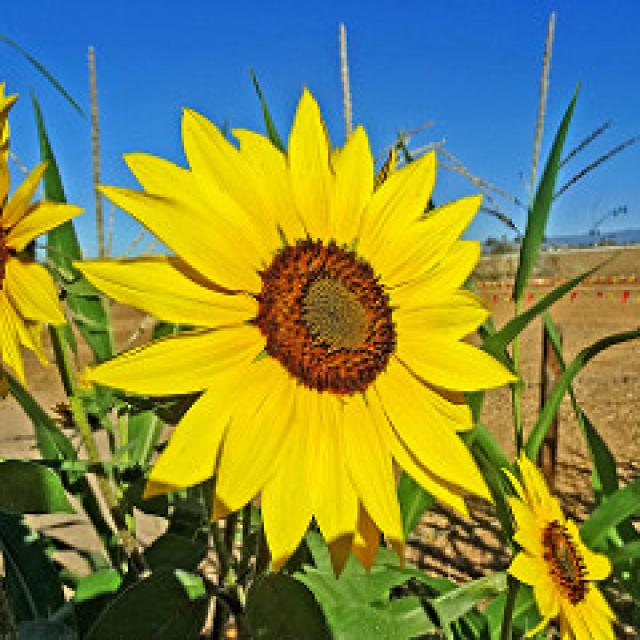sunflower: (69, 78, 520, 576), (0, 70, 83, 403), (489, 446, 620, 640)
